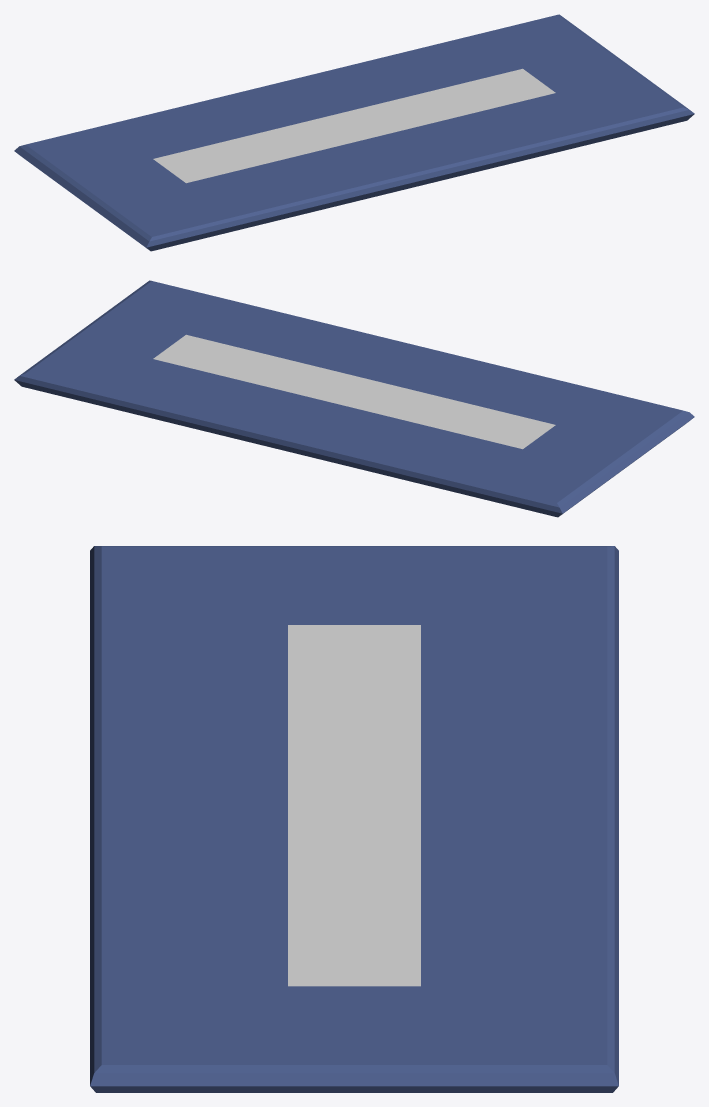
File: Carpet B.glb
The picture shows the model from 3 angles, top to bottom: view 1: azimuth 30°, elevation 25°; view 2: azimuth 150°, elevation 25°; view 3: azimuth 270°, elevation 25°; orthographic projection. The views are drawn at different scales.
Parts seen in each view (by area): view 1: Carpet B; view 2: Carpet B; view 3: Carpet B.
Part boxes in pixels (x1=…): Carpet B: x1=14, y1=14, x2=694, y2=251; Carpet B: x1=14, y1=280, x2=694, y2=517; Carpet B: x1=90, y1=546, x2=618, y2=1092.
Size of the model in its own units: 2.34 by 0.0522 by 0.9765.
